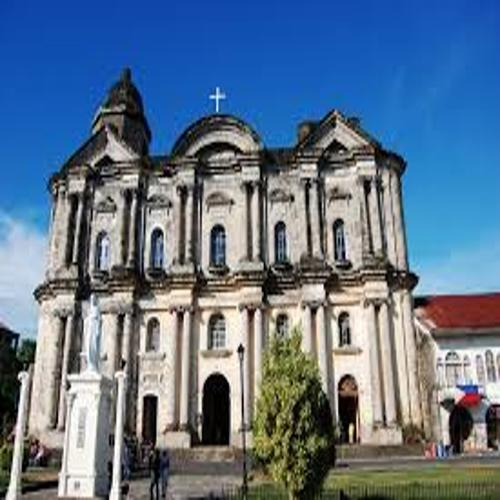Taal Basilica Church: (21, 62, 431, 473)
